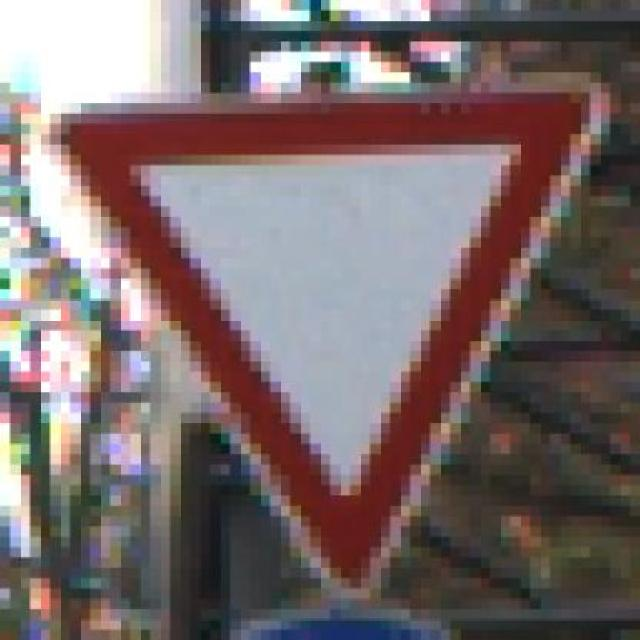Give Way: (40, 62, 631, 609)
